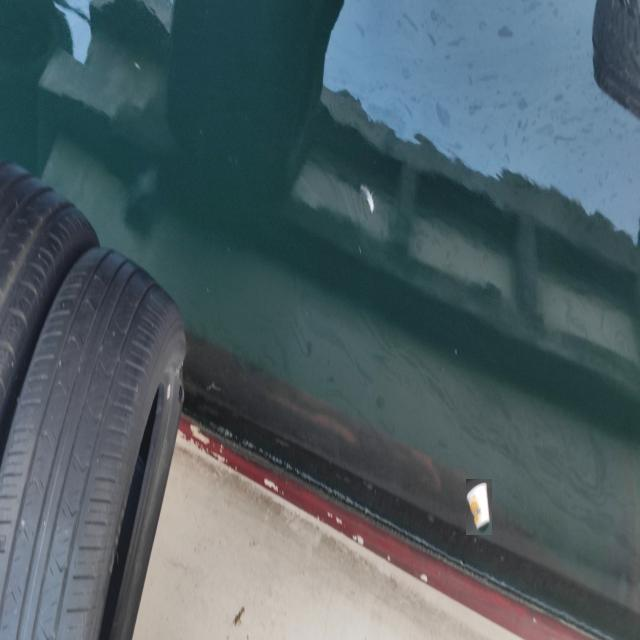Plastic cup: (466, 479, 492, 535)
